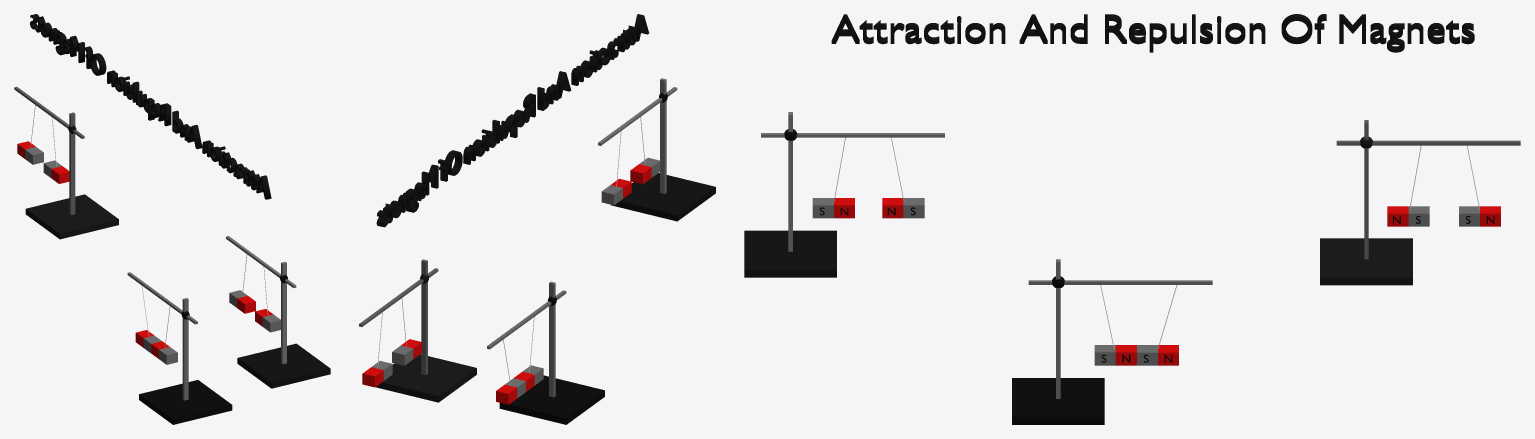
Rendered from Attraction and repulsion in magnets.gltf.
3 renders of one model, left to right at view 1: azimuth 30°, elevation 25°; view 2: azimuth 150°, elevation 25°; view 3: azimuth 270°, elevation 25°, orthographic. The views are drawn at different scales.
Parts seen in each view (by area): view 1: Text, Cube.009, Cube.010, Cube, Cube.012, Cube.008, Cube.002, Cube.001, Cube.004, Cube.005, Cube.011, Cube.003 (+1 smaller); view 2: Text, Cube, Cube.010, Cube.009, Cube.012, Cube.002, Cube.008, Cube.003, Cube.001, Cube.005, Cube.011, Cube.007 (+1 smaller); view 3: Text, Cube.009, Cube, Cube.010, Cube.008, Cube.012, Cube.002, Cube.003, Cube.001, Cube.011, Cube.004, Cube.007 (+1 smaller).
Boxes of the visible parts, left/top/right/bottom form: Text: left=30, top=14, right=271, bottom=199; Cube.009: left=25, top=194, right=118, bottom=239; Cube.010: left=139, top=380, right=232, bottom=424; Cube: left=237, top=343, right=330, bottom=388; Cube.012: left=127, top=272, right=197, bottom=400; Cube.008: left=14, top=86, right=84, bottom=214; Cube.002: left=226, top=236, right=296, bottom=364; Cube.001: left=229, top=290, right=255, bottom=313; Cube.004: left=151, top=341, right=177, bottom=364; Cube.005: left=17, top=141, right=43, bottom=164; Cube.011: left=43, top=160, right=69, bottom=183; Cube.003: left=255, top=309, right=280, bottom=332; Text: left=376, top=14, right=649, bottom=227; Cube: left=611, top=173, right=715, bottom=221; Cube.010: left=499, top=375, right=604, bottom=424; Cube.009: left=375, top=354, right=476, bottom=402; Cube.012: left=487, top=281, right=566, bottom=397; Cube.002: left=598, top=78, right=677, bottom=193; Cube.008: left=359, top=259, right=438, bottom=374; Cube.003: left=630, top=157, right=660, bottom=184; Cube.001: left=601, top=178, right=631, bottom=205; Cube.005: left=362, top=361, right=392, bottom=387; Cube.011: left=392, top=339, right=421, bottom=365; Cube.007: left=496, top=378, right=525, bottom=404; Text: left=831, top=14, right=1474, bottom=52; Cube.009: left=1320, top=238, right=1412, bottom=285; Cube: left=744, top=230, right=836, bottom=277; Cube.010: left=1012, top=378, right=1104, bottom=424; Cube.008: left=1336, top=120, right=1520, bottom=259; Cube.012: left=1028, top=259, right=1212, bottom=398; Cube.002: left=761, top=112, right=944, bottom=251; Cube.003: left=812, top=198, right=854, bottom=218; Cube.001: left=882, top=198, right=924, bottom=218; Cube.011: left=1387, top=206, right=1429, bottom=226; Cube.004: left=1094, top=345, right=1136, bottom=365; Cube.007: left=1136, top=345, right=1178, bottom=365.
Size of the model in its own units: 1.13 by 5.23 by 9.44.
